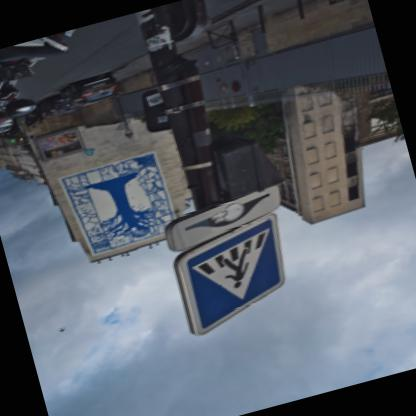crosswalk: (164, 215, 299, 343)
